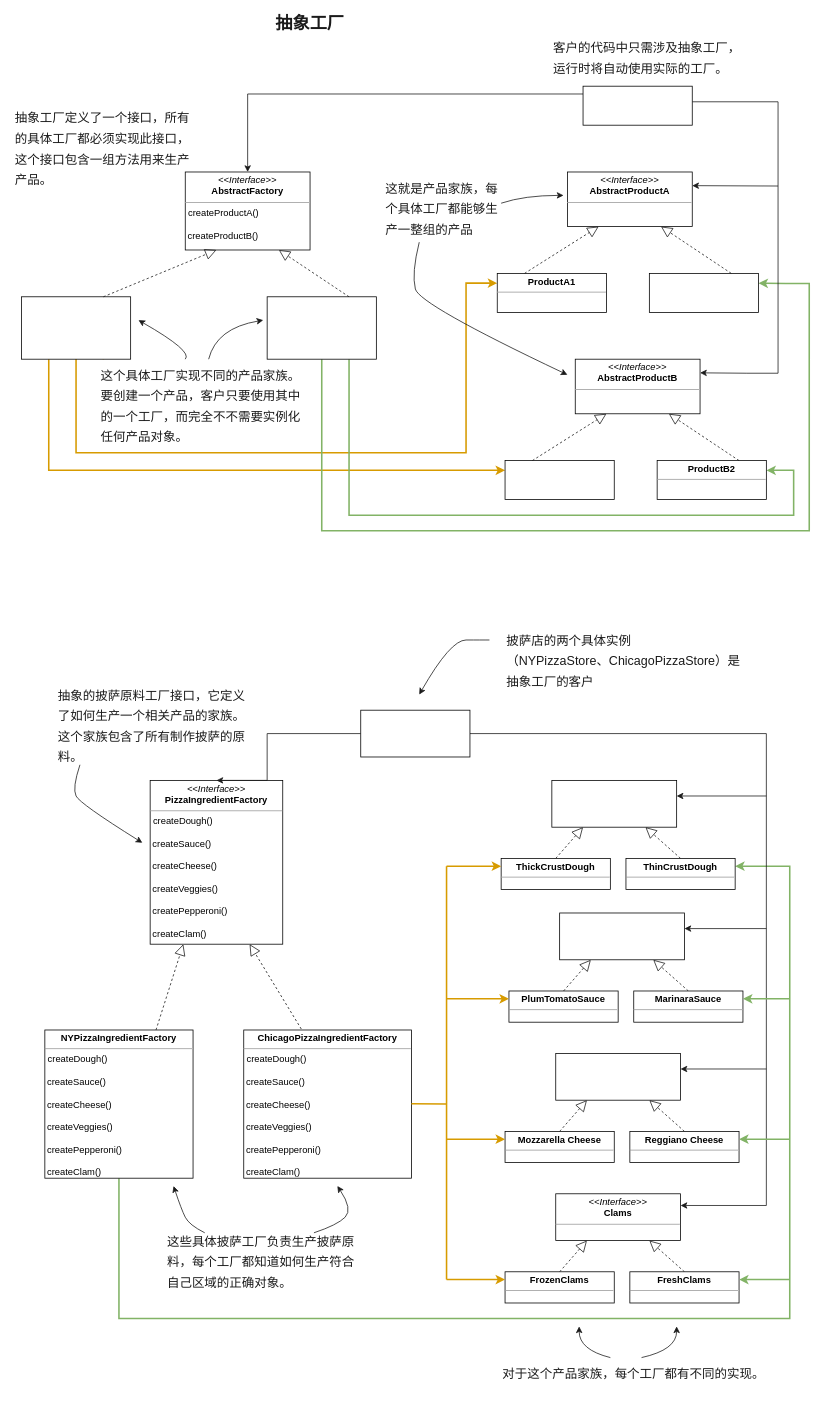
The diagram is 829 pixels wide and 1402 high, and some of its shapes have lost their labels. Each missing label, with the centre of its shape:
<<Interface>> Cheese: the point at 618,1076
<<Interface>> Dough: the point at 614,803
<<Interface>> Sauce: the point at 621,936
Client: the point at 637,105
ConcreteFactory1 createProductA() createProductB(): the point at 76,327
ConcreteFactory2 createProductA() createProductB(): the point at 321,327
NYPizzaStore createPizza(): the point at 415,733
ProductA2: the point at 704,292
ProductB1: the point at 559,480
